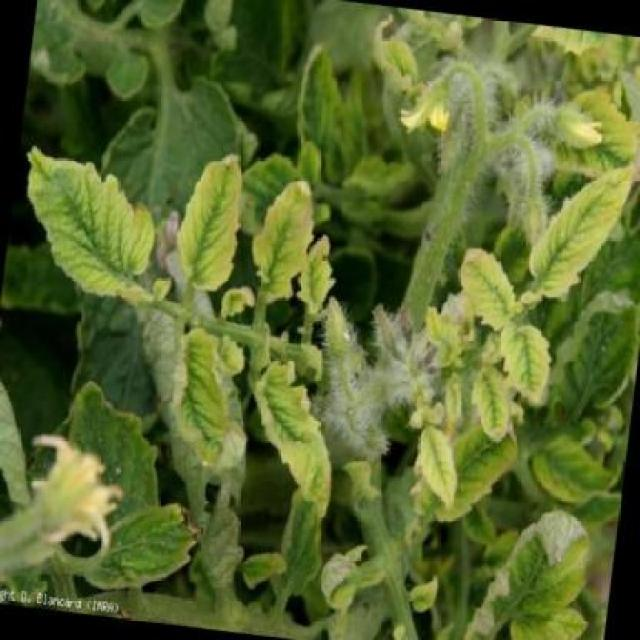Healthy Leaf: (11, 137, 174, 317), (235, 353, 352, 535), (154, 316, 253, 499), (524, 153, 633, 311), (178, 140, 249, 299), (446, 225, 529, 346), (254, 152, 317, 293), (497, 315, 571, 419), (402, 427, 473, 527)
